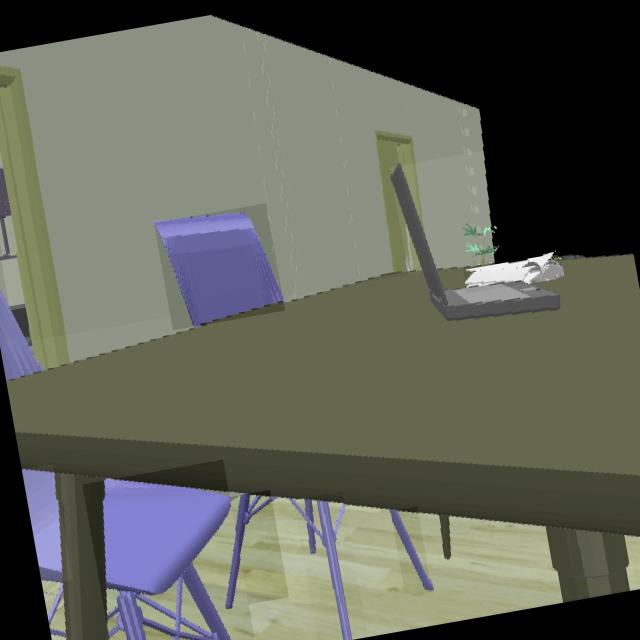book: (465, 252, 562, 286)
chair: (105, 479, 232, 640), (154, 216, 283, 325), (293, 501, 351, 638), (226, 493, 270, 607), (22, 469, 62, 581), (0, 288, 39, 379), (391, 511, 430, 589)
laptop: (391, 165, 559, 320)
table: (6, 255, 640, 640)
